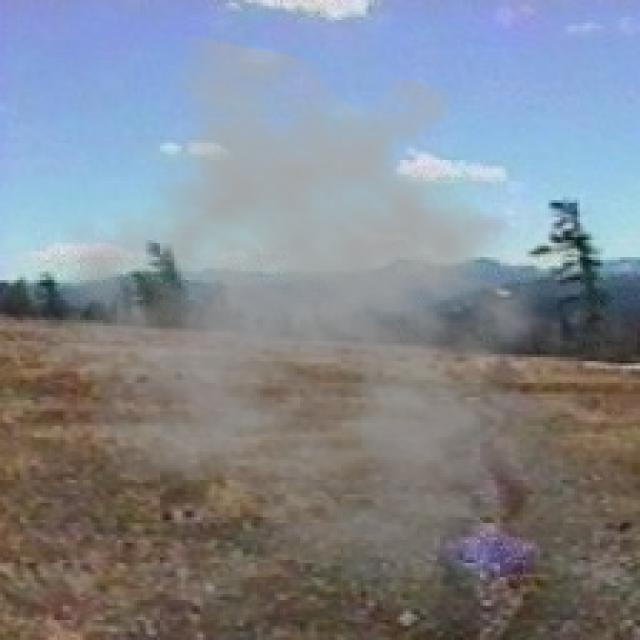smoke: (34, 34, 603, 589)
